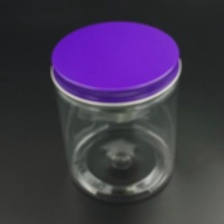plastic_box: (45, 15, 189, 209)
